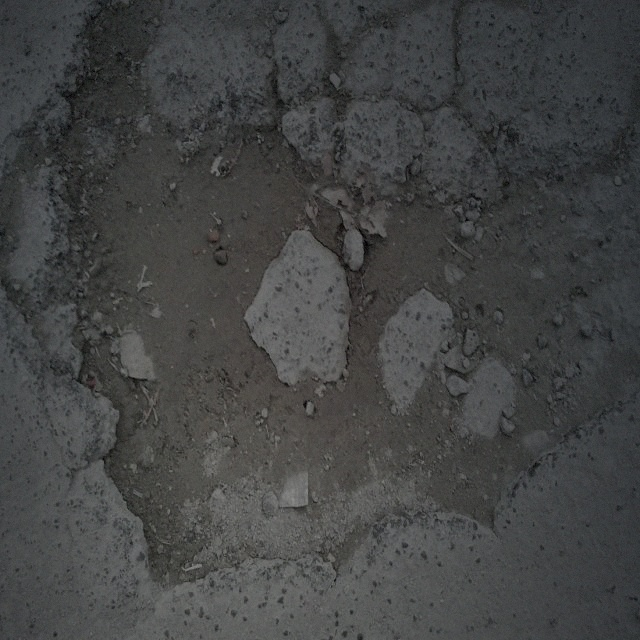pothole: (30, 65, 613, 594)
